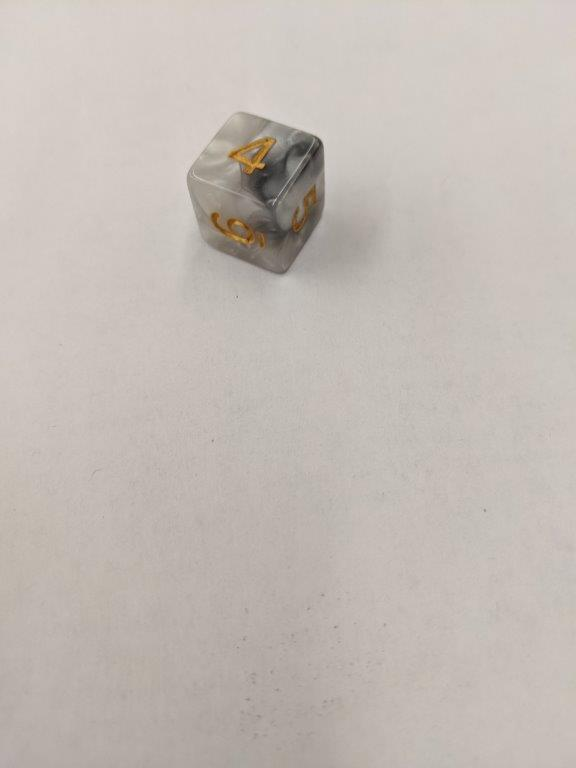d6-4: (184, 108, 326, 275)
